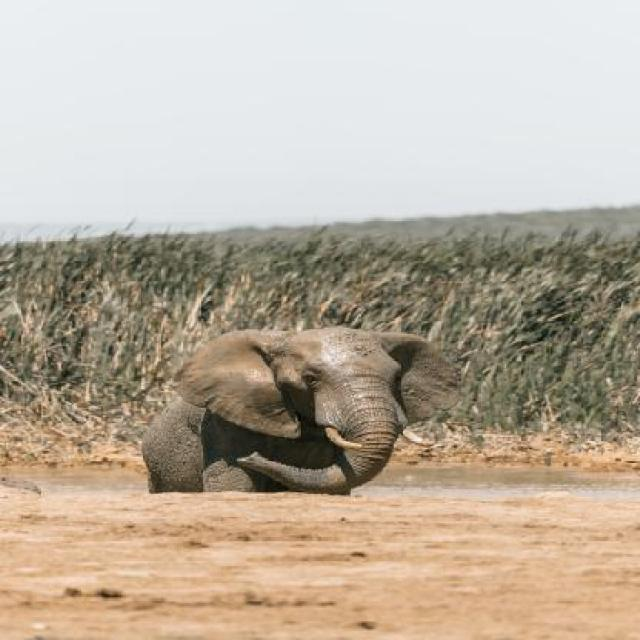Elephant: (123, 320, 474, 502)
